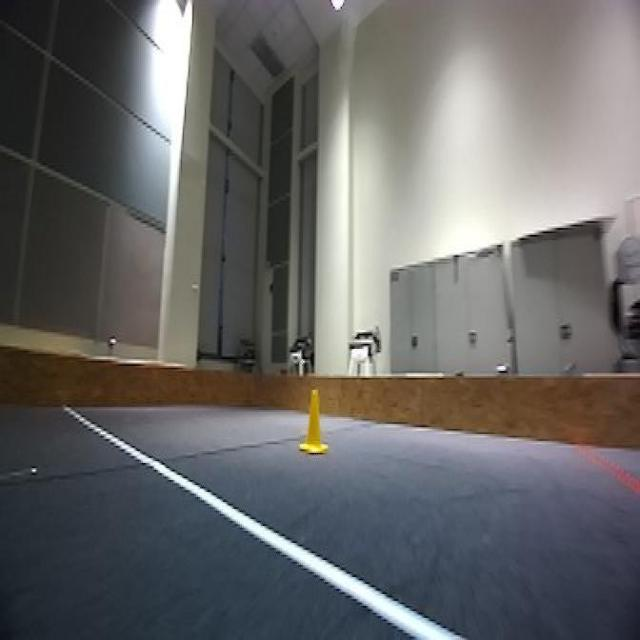frc_cone: (299, 390, 329, 456)
